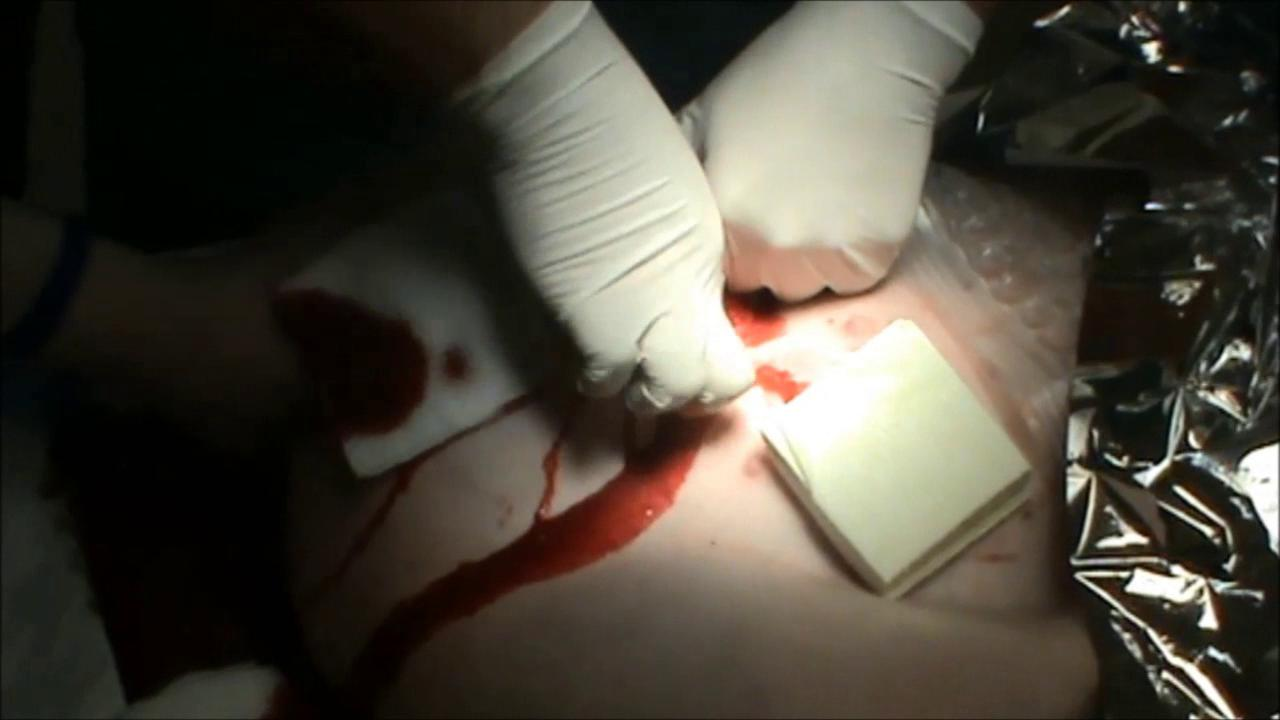gauze: (273, 184, 567, 479)
